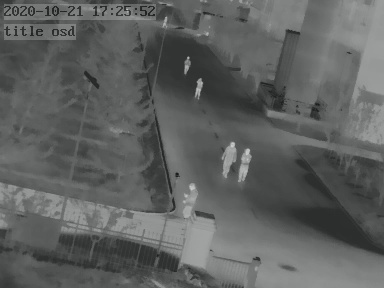person: (221, 141, 237, 180), (181, 183, 199, 216), (238, 147, 252, 181), (193, 77, 202, 100), (184, 55, 193, 76), (162, 15, 168, 28)
